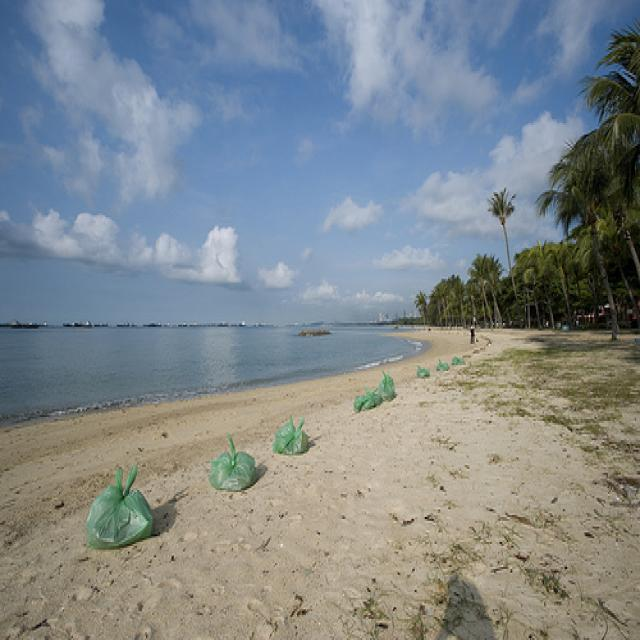trash: (77, 458, 162, 556), (203, 427, 259, 495), (349, 366, 403, 419), (270, 411, 314, 458), (436, 353, 467, 375), (414, 358, 434, 385)
